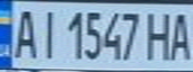1: (60, 7, 84, 61)
4: (103, 7, 124, 61)
5: (81, 7, 106, 60)
7: (121, 8, 145, 61)
A: (6, 4, 39, 61), (166, 8, 193, 61)
H: (145, 8, 175, 61)
I: (33, 6, 60, 61)
